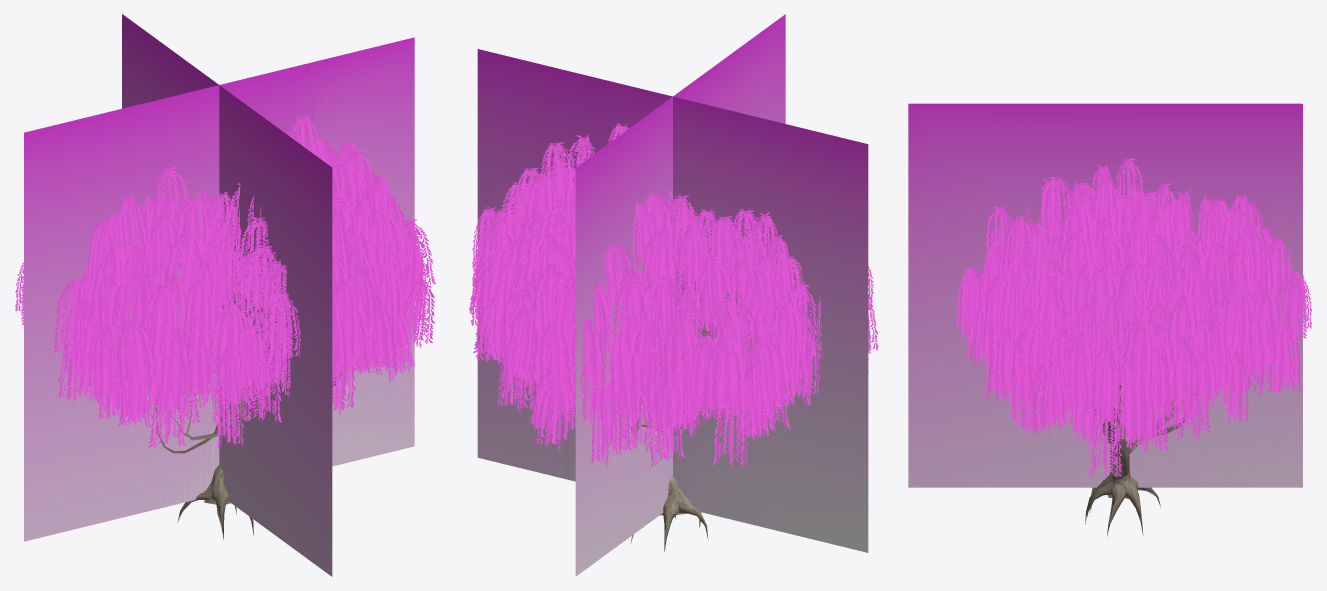
Rendered from FAE_Willow_B.fbx.
3 views of the same model, side by side, from view 1: azimuth 30°, elevation 25°; view 2: azimuth 150°, elevation 25°; view 3: azimuth 270°, elevation 25° (orthographic). The views are drawn at different scales.
Parts seen in each view (by area): view 1: FAE_Willow_B_Billboard, FAE_Willow_B_LOD0; view 2: FAE_Willow_B_Billboard, FAE_Willow_B_LOD0; view 3: FAE_Willow_B_Billboard, FAE_Willow_B_LOD0.
Part boxes in pixels (x1,y1,x2,y2): FAE_Willow_B_Billboard: [24, 14, 414, 576]; FAE_Willow_B_LOD0: [15, 114, 435, 539]; FAE_Willow_B_Billboard: [477, 14, 868, 576]; FAE_Willow_B_LOD0: [469, 123, 878, 551]; FAE_Willow_B_Billboard: [908, 103, 1302, 487]; FAE_Willow_B_LOD0: [957, 157, 1311, 536].
Size of what is drawn, in the model's own units: 3191 by 3411 by 2979.
3 materials, 2 textured.
